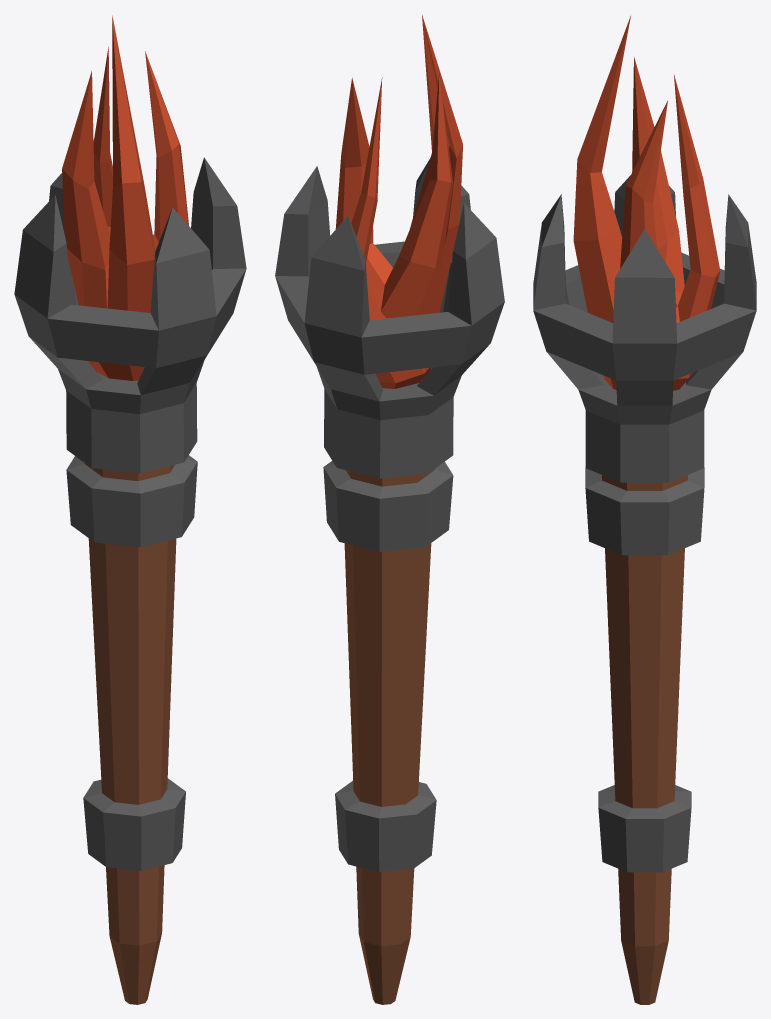
The model's file is Torch.glb.
3 renders of one model, left to right at view 1: azimuth 30°, elevation 25°; view 2: azimuth 150°, elevation 25°; view 3: azimuth 270°, elevation 25°, orthographic. The views are drawn at different scales.
Parts seen in each view (by area): view 1: Torch; view 2: Torch; view 3: Torch.
Boxes of the visible parts, <box> form: Torch: <box>14,15,246,1004</box>; Torch: <box>275,15,504,1004</box>; Torch: <box>533,15,756,1004</box>.
Size of the model in its own units: 0.4472 by 2.14 by 0.4472.
